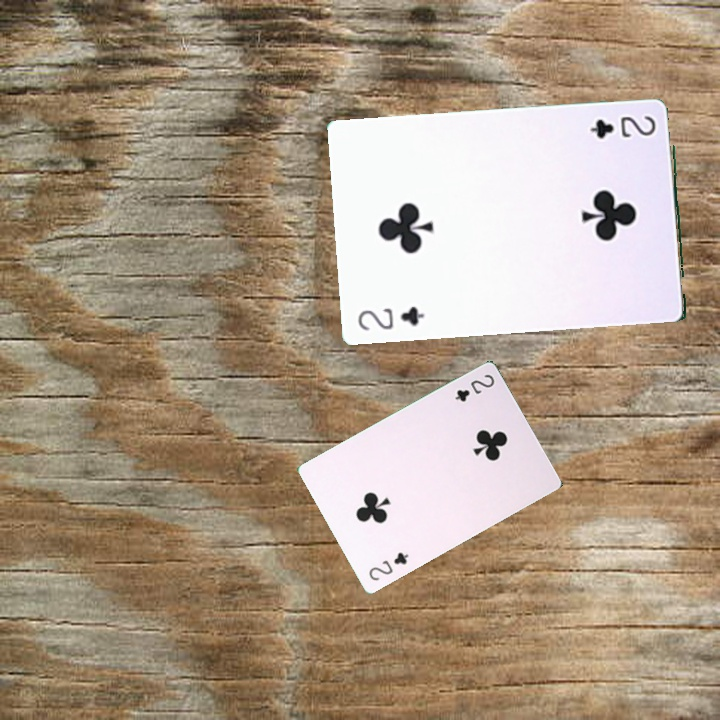2c: (353, 302, 427, 333), (586, 111, 658, 142), (364, 548, 411, 583), (451, 370, 497, 404)
